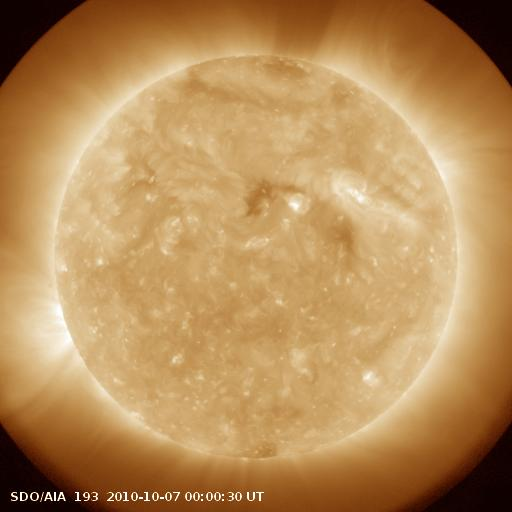coronal_hole: (239, 177, 307, 219)
